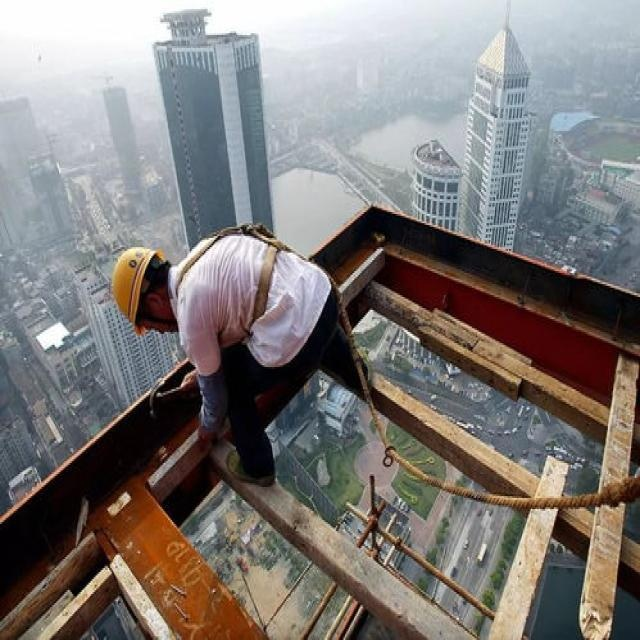Arnes_seguridad: (167, 214, 308, 334)
